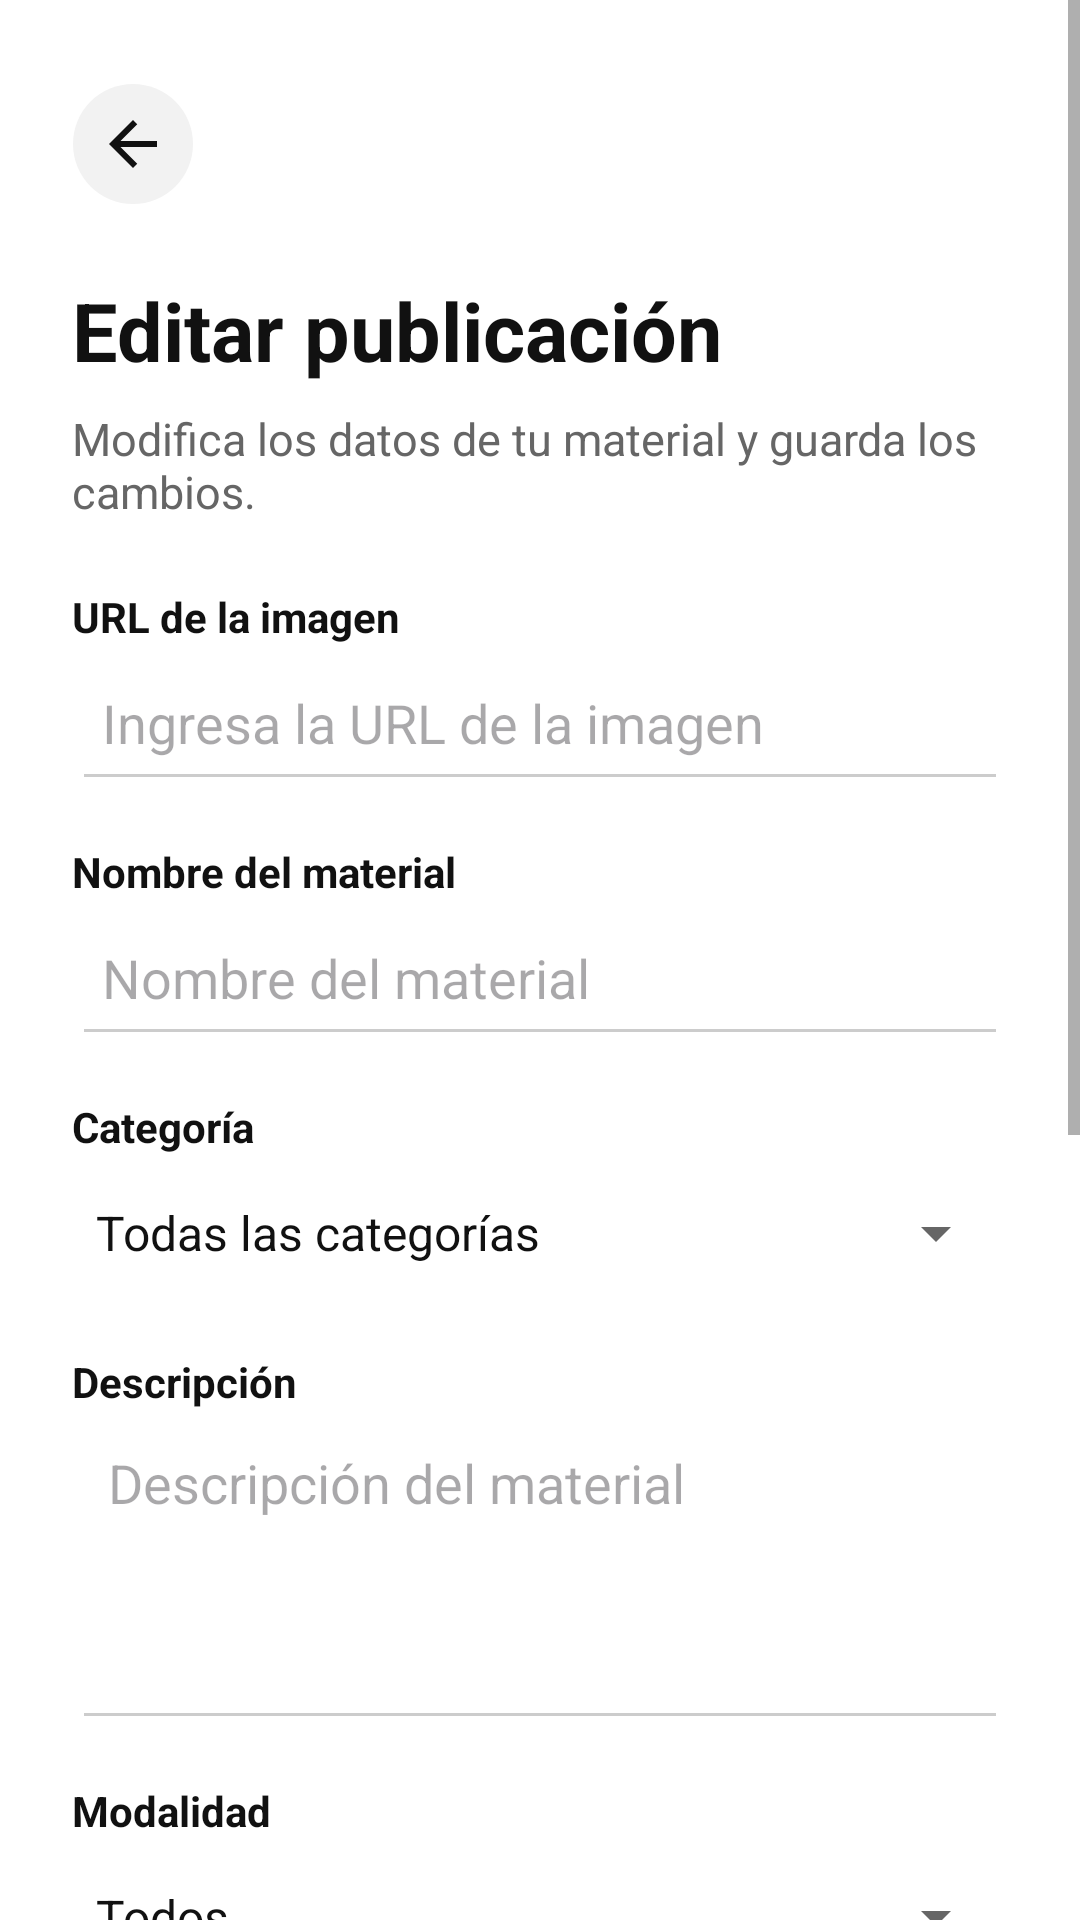

Where to tap for icons on this 1080px x 1920px app screen, as point (x, y):
Regresar: point (133, 144)
